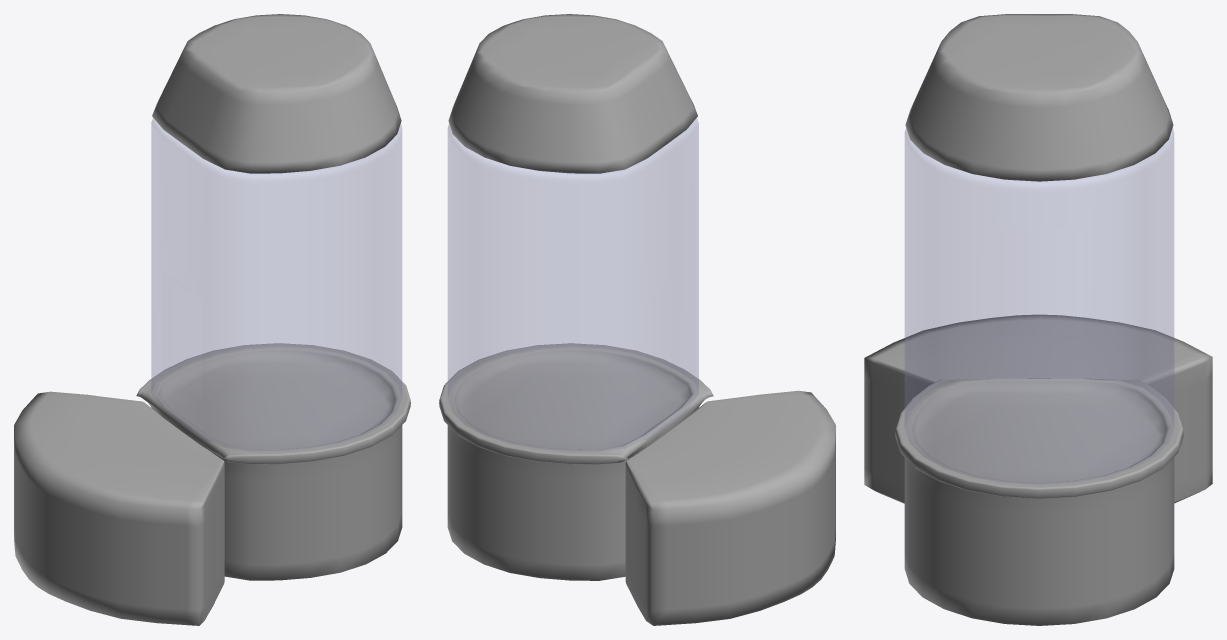
The model's file is puzzlePlace.fbx.
3 views of the same model, side by side, from view 1: azimuth 30°, elevation 25°; view 2: azimuth 150°, elevation 25°; view 3: azimuth 270°, elevation 25° (orthographic). The views are drawn at different scales.
Parts seen in each view (by area): view 1: glassCylinder, baseCylinder, puzzleTable, topCylinder; view 2: glassCylinder, baseCylinder, puzzleTable, topCylinder; view 3: glassCylinder, baseCylinder, topCylinder, puzzleTable.
Boxes of the visible parts, left/top/right/bottom form: glassCylinder: left=151, top=118, right=401, bottom=450; baseCylinder: left=136, top=343, right=410, bottom=580; puzzleTable: left=14, top=391, right=224, bottom=625; topCylinder: left=152, top=14, right=401, bottom=173; glassCylinder: left=448, top=118, right=698, bottom=450; baseCylinder: left=439, top=343, right=713, bottom=580; puzzleTable: left=625, top=390, right=835, bottom=625; topCylinder: left=448, top=14, right=697, bottom=173; glassCylinder: left=905, top=128, right=1173, bottom=484; baseCylinder: left=895, top=378, right=1183, bottom=625; topCylinder: left=905, top=14, right=1173, bottom=181; puzzleTable: left=864, top=314, right=1212, bottom=503.
Size of the model in its own units: 208 by 268 by 162.
